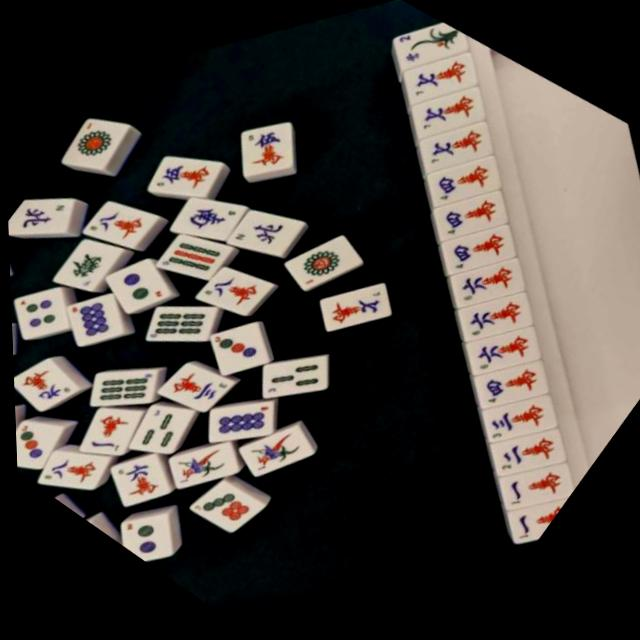bf2: (378, 0, 478, 98)
sc1: (479, 439, 582, 547), (489, 479, 568, 566)
sc2: (471, 403, 576, 512)
sc3: (463, 368, 570, 480)
sc4: (424, 196, 530, 307), (455, 336, 560, 445), (420, 163, 525, 272), (412, 127, 517, 236)
sc6: (434, 228, 540, 339), (442, 266, 545, 374), (450, 302, 552, 409)
sc7: (395, 55, 501, 167), (387, 22, 493, 134), (404, 94, 507, 202)
